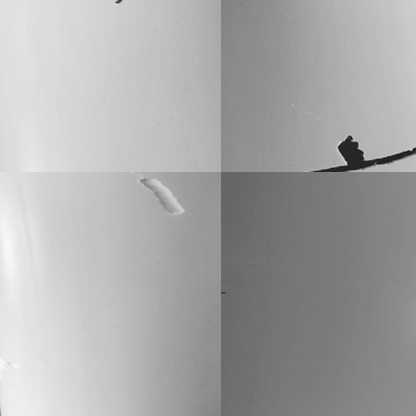kongdong: (304, 128, 416, 171)
sunshang: (134, 172, 183, 218)
